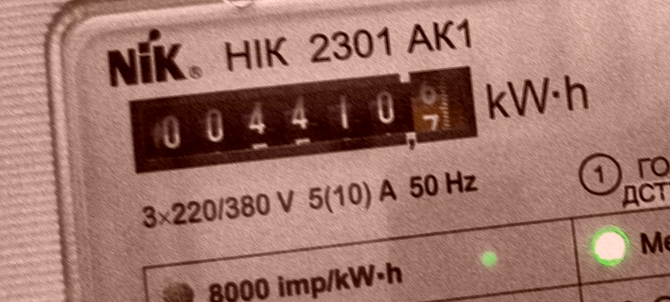0: (156, 112, 182, 153), (201, 106, 223, 146), (372, 89, 395, 127)
1: (332, 94, 350, 133)
4: (284, 95, 310, 135), (242, 98, 267, 138)
6: (418, 80, 438, 108)
7: (419, 113, 440, 134)
screen: (114, 51, 490, 190)
